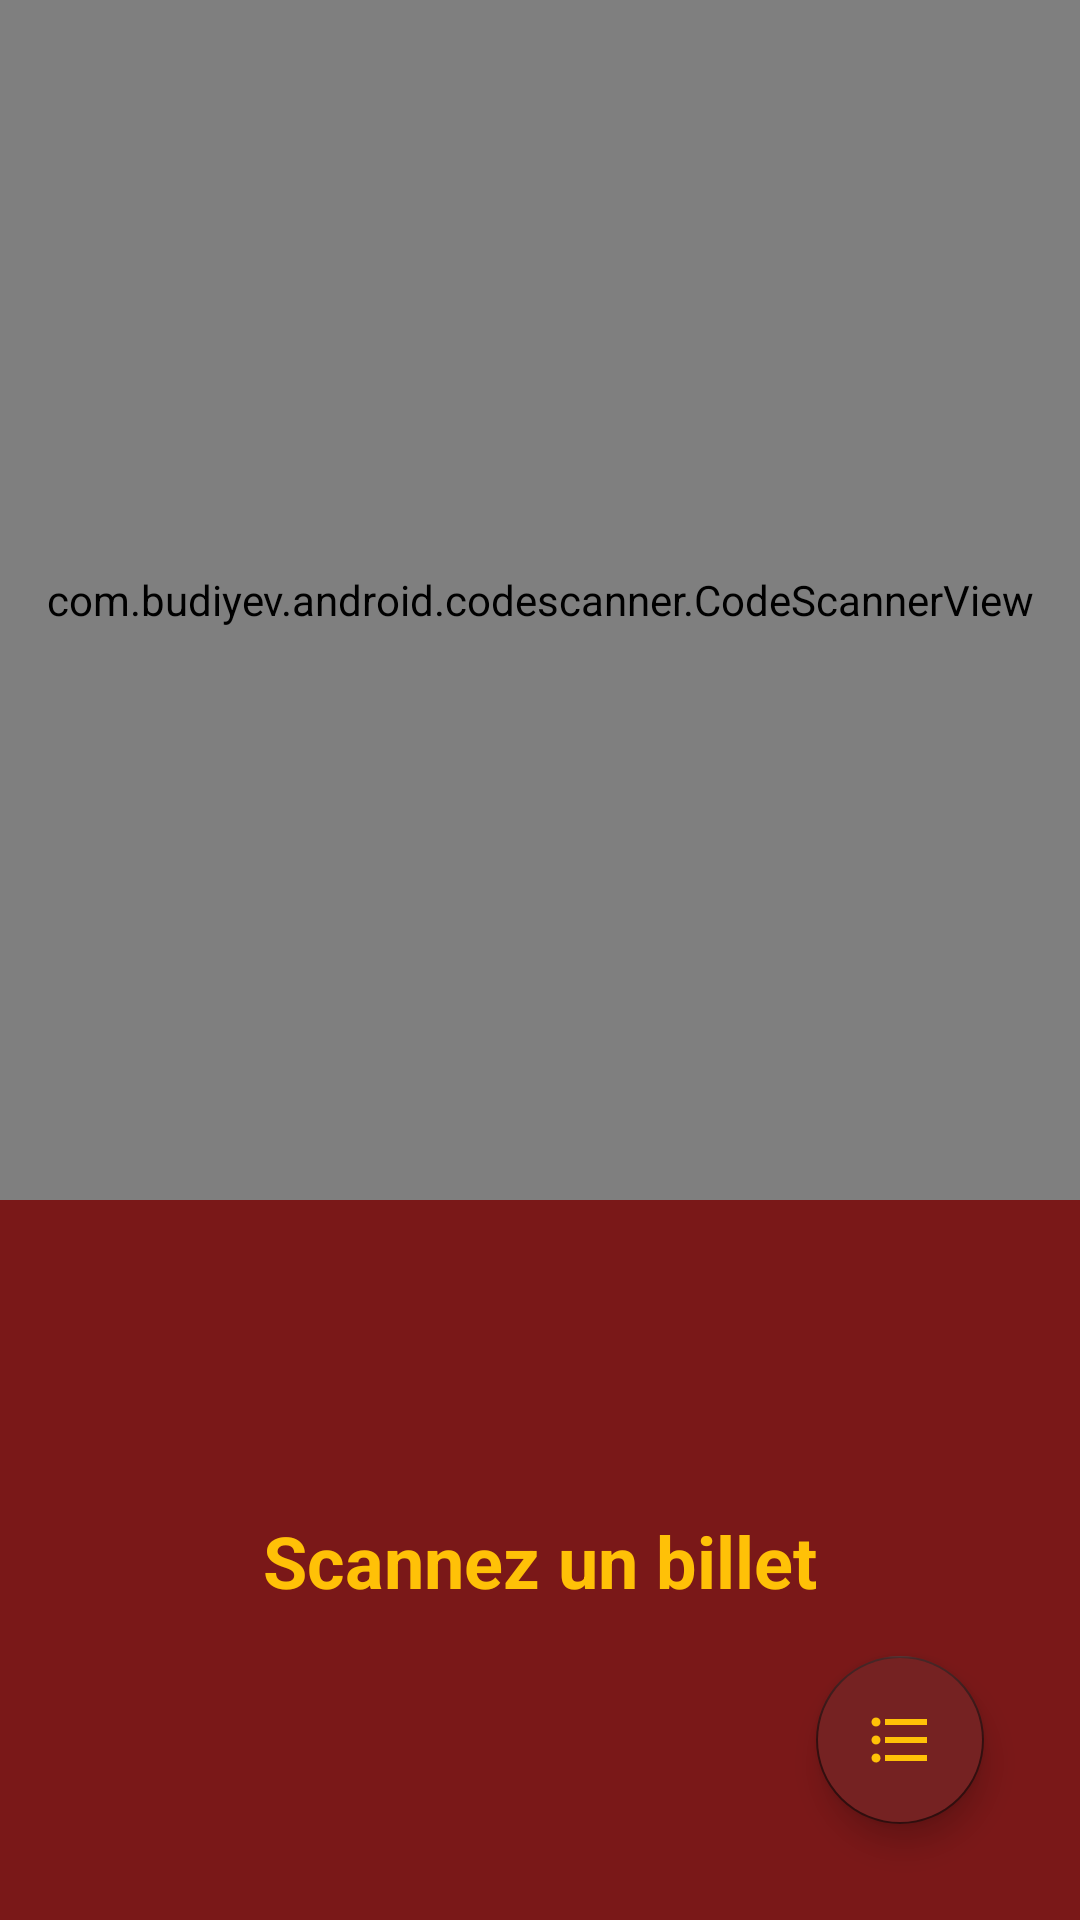

Icons on this 1080w x 1920h Android screen, each with the point to tap as point (x, y):
Affichez la liste des tickets: point (900, 1740)
